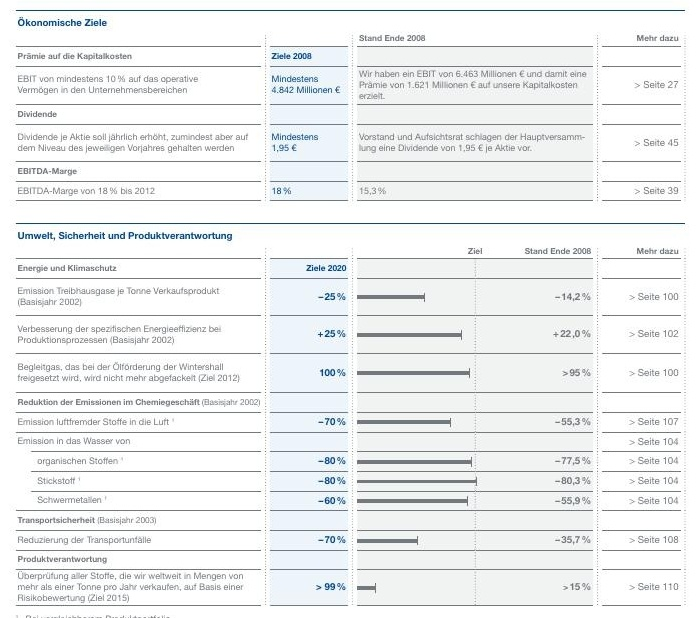table: (0, 0, 697, 618)
